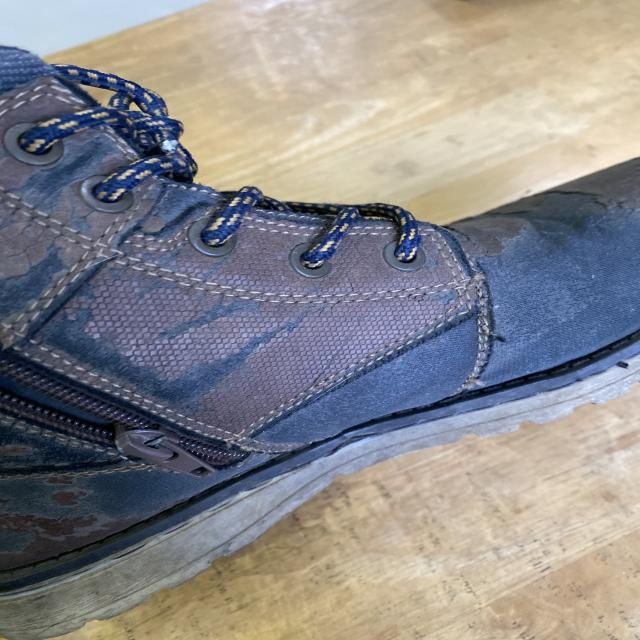broken: (466, 316, 532, 357)
